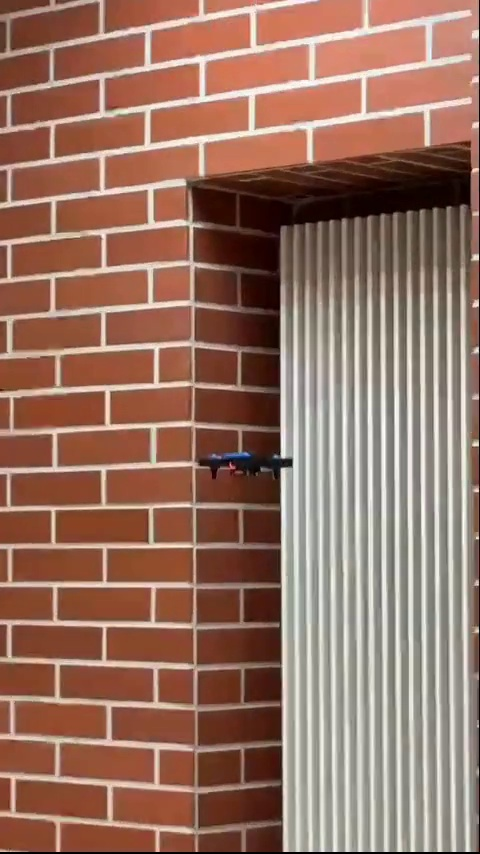drone: (193, 448, 300, 484)
